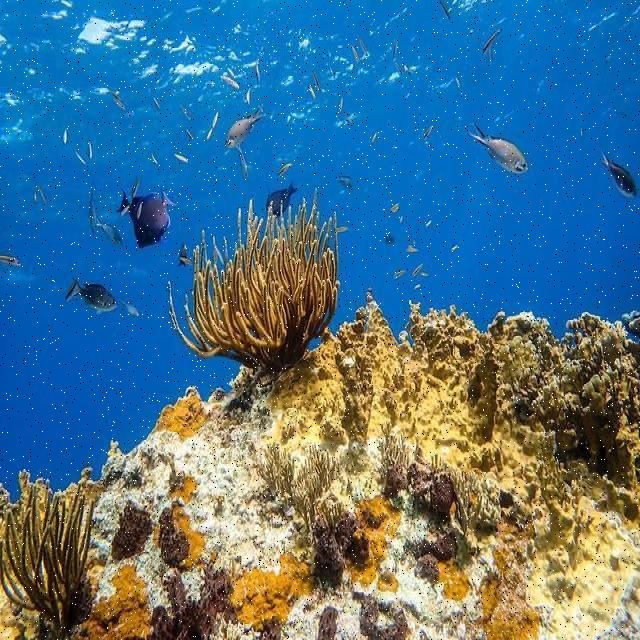fish: (467, 120, 531, 174), (117, 190, 171, 247), (597, 147, 637, 198), (63, 280, 115, 312), (222, 108, 264, 147)
reefs: (164, 193, 342, 378), (1, 489, 96, 628)
